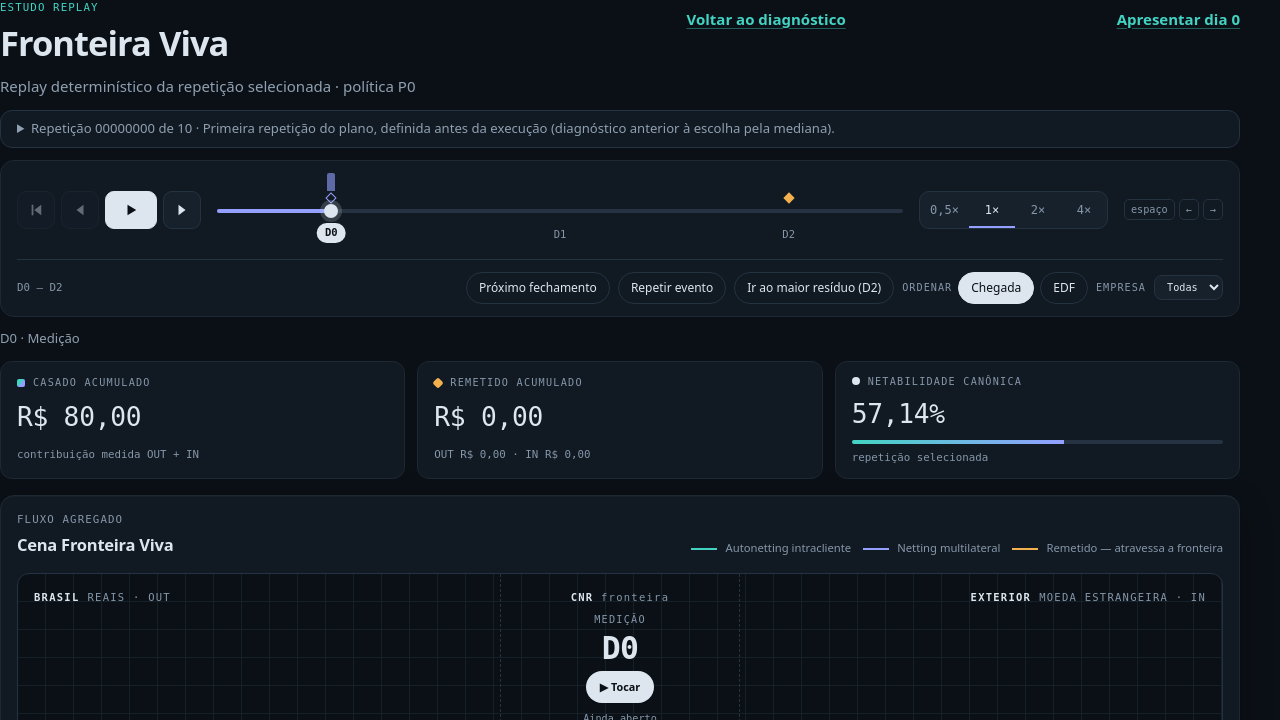
Scenario: ReplayPage › reports the selected day to typed chat context
Check: the heading "Fronteira Viva" is shown, box x1=0 y1=19 x2=228 y2=66
Note: Dia e cenário chegam ao chat por efeitos da página, logo depois do render.
Step 1. Set the slider named "Selecionar dia" to "1" → (560, 210), box x1=217 y1=173 x2=903 y2=247
(page scrolled)
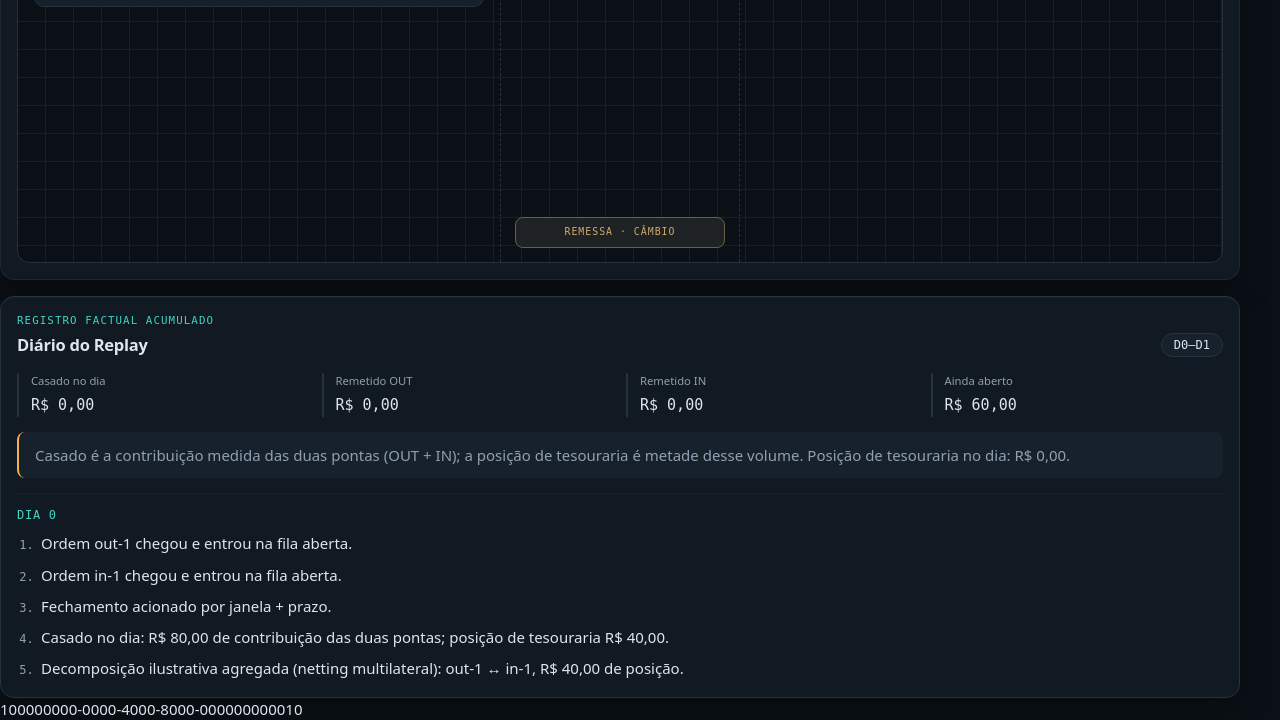
Check: the text with test id "chat-day" reads "1", box x1=0 y1=699 x2=9 y2=719
